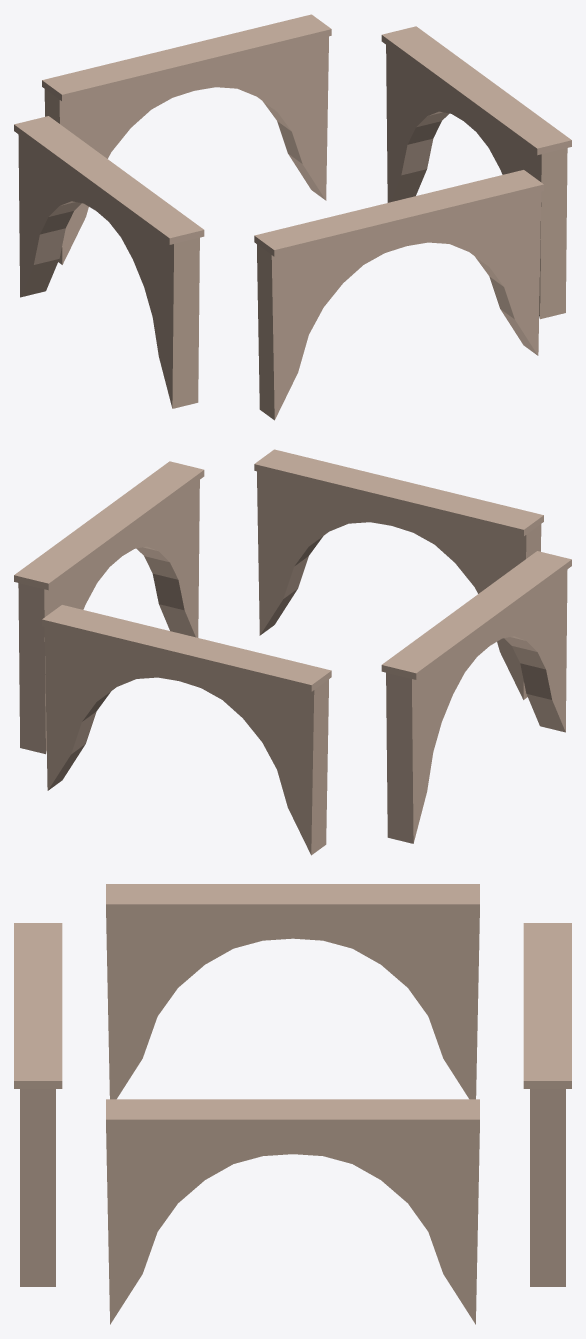
File: archs.fbx
The picture shows the model from 3 angles, top to bottom: view 1: azimuth 30°, elevation 25°; view 2: azimuth 150°, elevation 25°; view 3: azimuth 270°, elevation 25°; orthographic projection. The views are drawn at different scales.
Visible parts, largest first — view 1: archs; view 2: archs; view 3: archs.
Part boxes in pixels (<box>): archs: <box>14,14,571,420</box>; archs: <box>14,449,571,855</box>; archs: <box>14,884,571,1324</box>.
Bounding box in the file's own units: 353 × 353 × 145.
